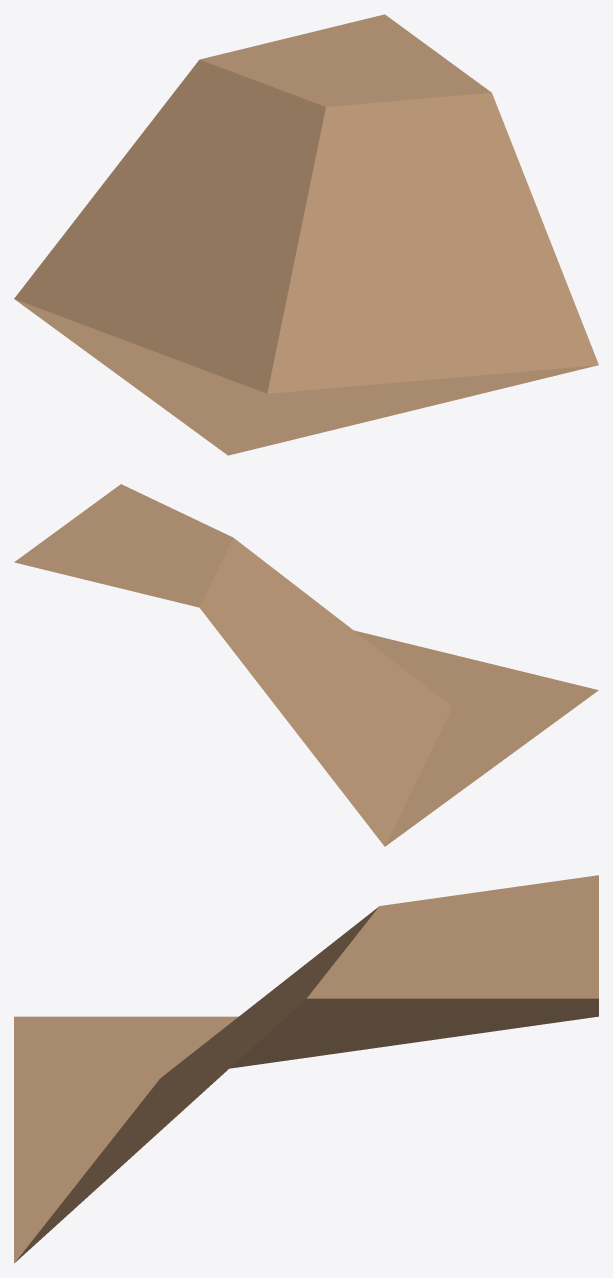
File: terrain_sideCorner.fbx
3 views of the same model, one above another, from view 1: azimuth 30°, elevation 25°; view 2: azimuth 150°, elevation 25°; view 3: azimuth 270°, elevation 25° (orthographic). The views are drawn at different scales.
Parts seen in each view (by area): view 1: terrain_sideCorner; view 2: terrain_sideCorner; view 3: terrain_sideCorner.
Boxes of the visible parts, box(x1,y1,x2,y2) form: terrain_sideCorner: box(14, 14, 598, 455); terrain_sideCorner: box(14, 484, 598, 846); terrain_sideCorner: box(14, 875, 598, 1263).
Bounding box in the file's own units: 100 × 50 × 100.
